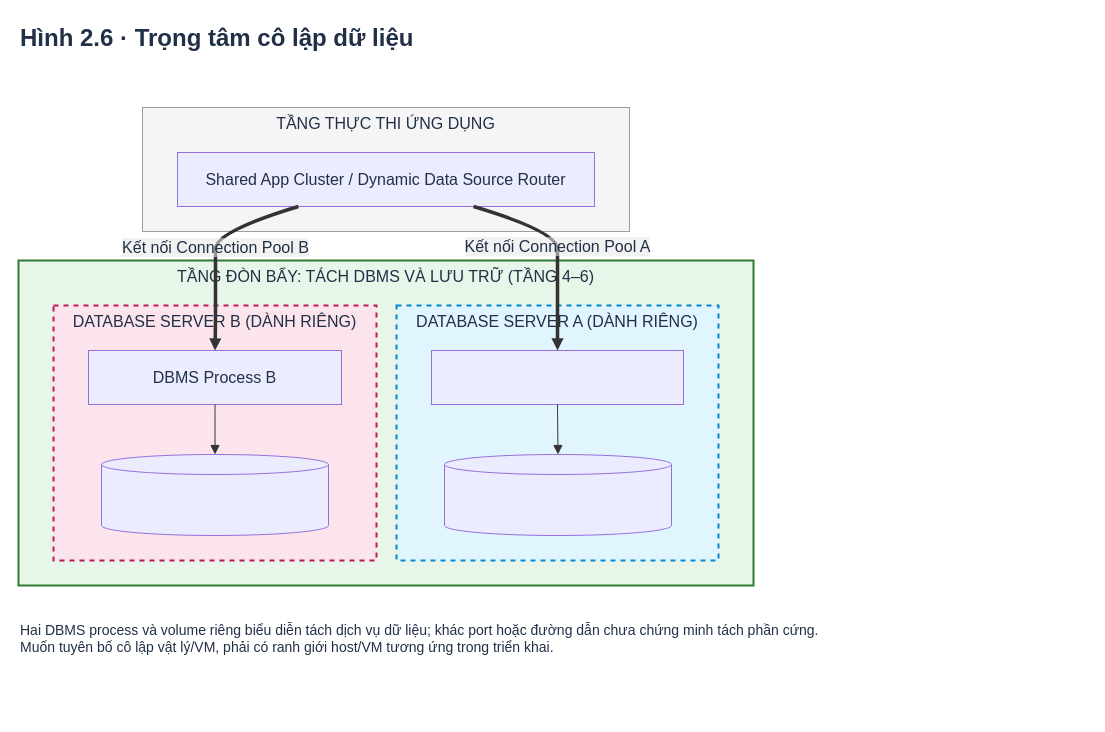
Image size: 1105x732. Some labels were removed from this diagram. Each missing label, with the centre of its shape:
DBMS Process A: point 557,377
Storage Volume A: point 558,495
Storage Volume B: point 214,495
